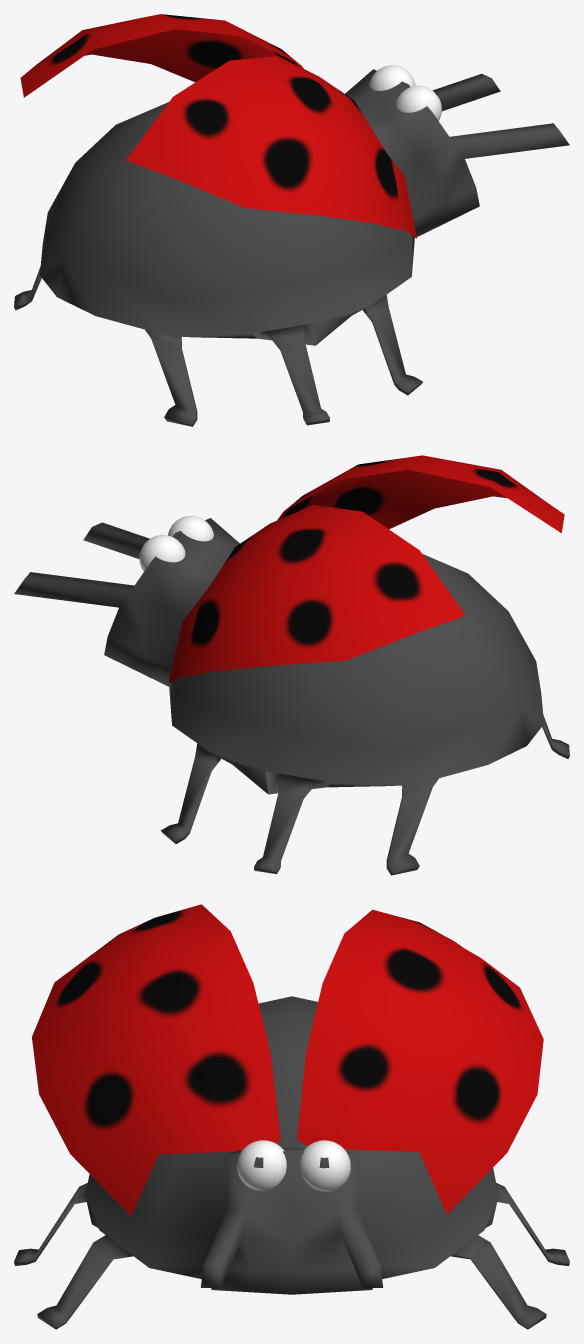
The picture shows the model from 3 angles, top to bottom: view 1: azimuth 30°, elevation 25°; view 2: azimuth 150°, elevation 25°; view 3: azimuth 270°, elevation 25°; orthographic projection. The views are drawn at different scales.
Visible parts, largest first — view 1: rwing, rwing.001, rwing.002; view 2: rwing, rwing.002, rwing.001; view 3: rwing, rwing.001, rwing.002.
Boxes of the visible parts, x1,y1,x2,y2 form: rwing: [14, 65, 569, 426]; rwing.001: [126, 56, 416, 238]; rwing.002: [20, 14, 303, 97]; rwing: [14, 516, 569, 875]; rwing.002: [168, 505, 465, 683]; rwing.001: [277, 455, 564, 532]; rwing: [14, 996, 569, 1329]; rwing.001: [32, 904, 280, 1215]; rwing.002: [297, 909, 543, 1214].
Size of the model in its own units: 313 by 188 by 280.
